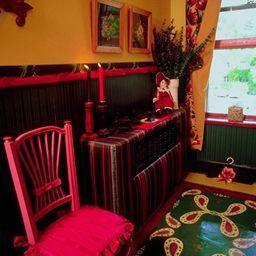Ventana: (202, 9, 255, 124)
